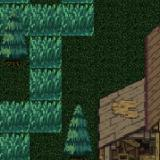Obstacle: (93, 35, 160, 160), (0, 35, 29, 70), (62, 133, 93, 160)
Slow: (29, 36, 62, 133), (0, 4, 94, 35), (0, 100, 29, 159)
